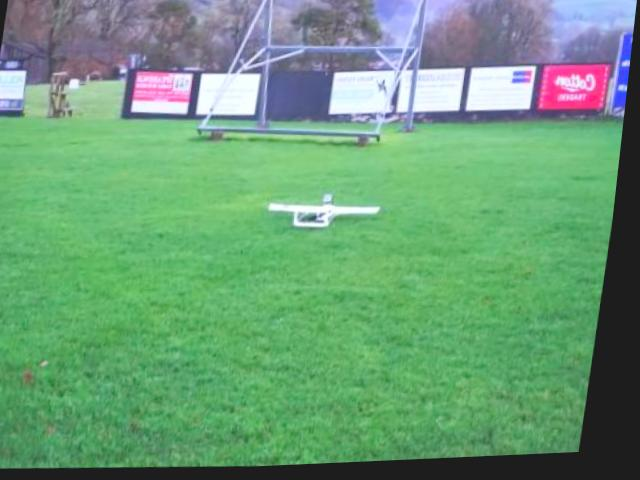uav: (261, 181, 396, 250)
